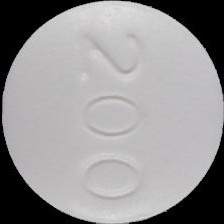50090-1504: (0, 0, 224, 224)
